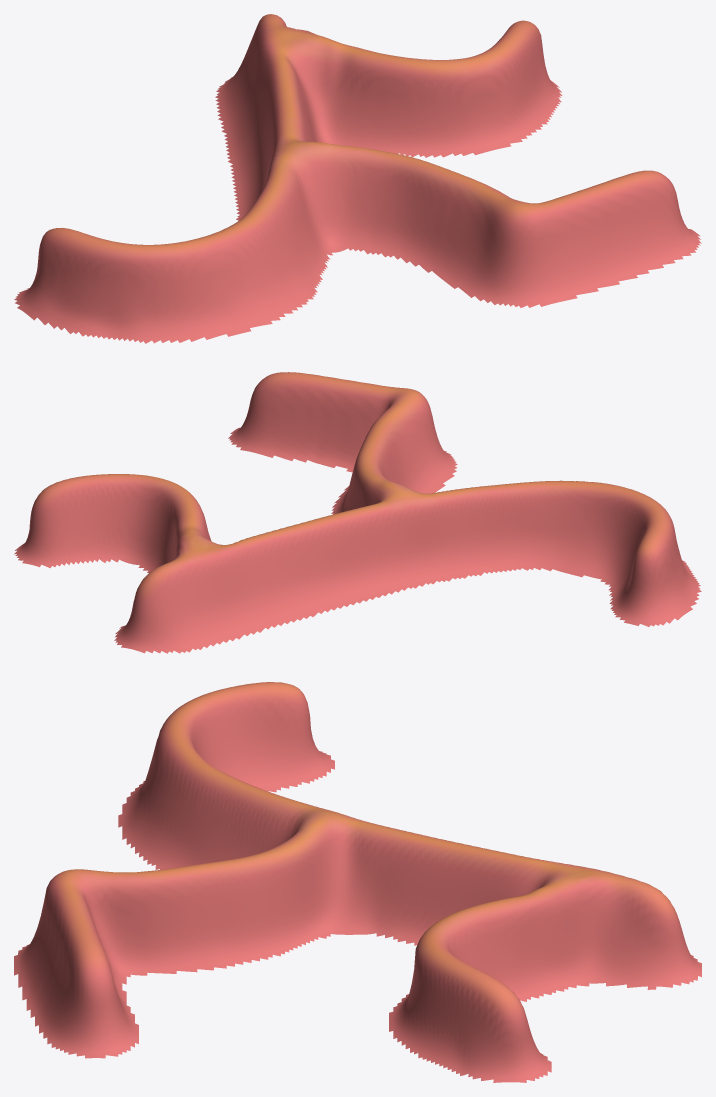
File: cave_gliph_5.fbx
The picture shows the model from 3 angles, top to bottom: view 1: azimuth 30°, elevation 25°; view 2: azimuth 150°, elevation 25°; view 3: azimuth 270°, elevation 25°; orthographic projection. The views are drawn at different scales.
Visible parts, largest first — view 1: gliph_5; view 2: gliph_5; view 3: gliph_5.
Part boxes in pixels (x1,y1,x2,y2): gliph_5: (14,14,701,343); gliph_5: (14,372,701,653); gliph_5: (14,682,701,1082).
Bounding box in the file's own units: 191 × 23.91 × 165.
Materials: 1 (1 with a texture image).
